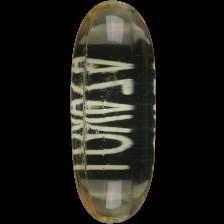54868-5816: (0, 0, 224, 224)
